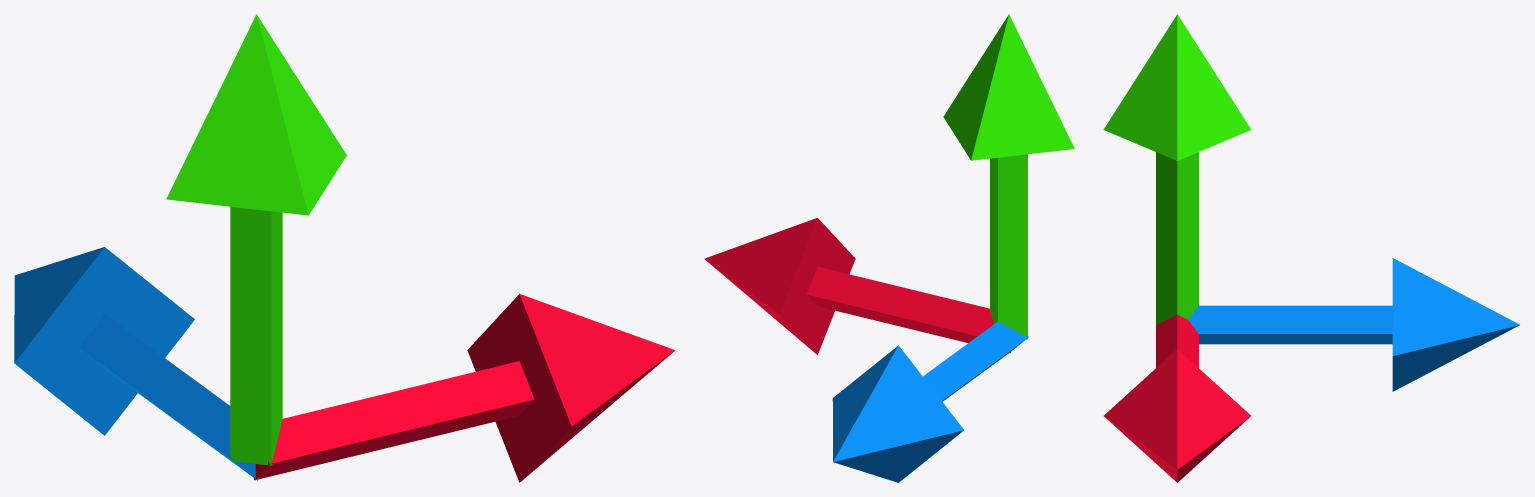
File: Arrow.obj
The picture shows the model from 3 angles, left to right: view 1: azimuth 30°, elevation 25°; view 2: azimuth 150°, elevation 25°; view 3: azimuth 270°, elevation 25°; orthographic projection. The views are drawn at different scales.
Parts seen in each view (by area): view 1: Y-axis_Y-axis_Default_Smoothing, X-axis_X-axis_Default_Smoothing.001, Z-axis_Z-axis_Default_Smoothing.002; view 2: Y-axis_Y-axis_Default_Smoothing, X-axis_X-axis_Default_Smoothing.001, Z-axis_Z-axis_Default_Smoothing.002; view 3: Y-axis_Y-axis_Default_Smoothing, Z-axis_Z-axis_Default_Smoothing.002, X-axis_X-axis_Default_Smoothing.001.
Boxes of the visible parts, x1=… form: Y-axis_Y-axis_Default_Smoothing: x1=166, y1=14, x2=346, y2=465; X-axis_X-axis_Default_Smoothing.001: x1=253, y1=294, x2=675, y2=482; Z-axis_Z-axis_Default_Smoothing.002: x1=14, y1=247, x2=259, y2=480; Y-axis_Y-axis_Default_Smoothing: x1=943, y1=14, x2=1074, y2=339; X-axis_X-axis_Default_Smoothing.001: x1=704, y1=217, x2=1010, y2=354; Z-axis_Z-axis_Default_Smoothing.002: x1=832, y1=321, x2=1028, y2=482; Y-axis_Y-axis_Default_Smoothing: x1=1103, y1=14, x2=1251, y2=324; Z-axis_Z-axis_Default_Smoothing.002: x1=1188, y1=258, x2=1519, y2=391; X-axis_X-axis_Default_Smoothing.001: x1=1104, y1=314, x2=1250, y2=482.
Bounding box in the file's own units: 3.88 × 3.88 × 3.88.
